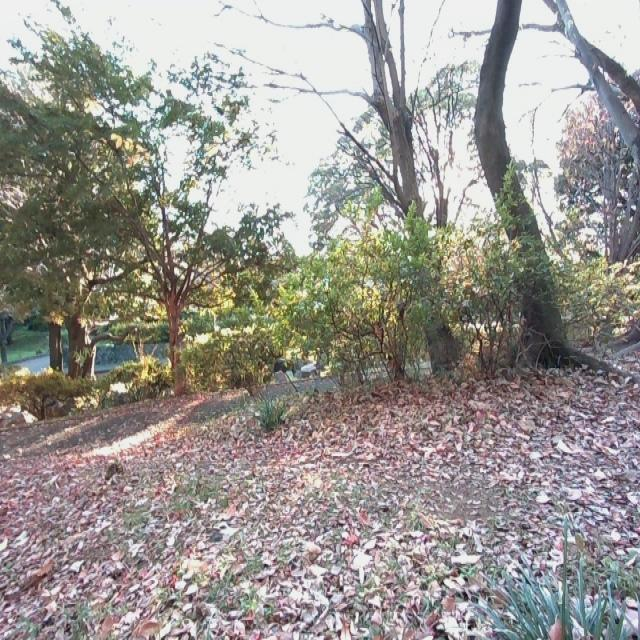bush: (274, 183, 640, 374), (186, 324, 283, 394), (0, 363, 97, 420), (106, 357, 169, 399)
tree: (92, 105, 235, 404), (462, 0, 578, 354), (278, 1, 450, 219), (520, 0, 639, 179), (62, 293, 103, 379), (41, 308, 68, 366)
